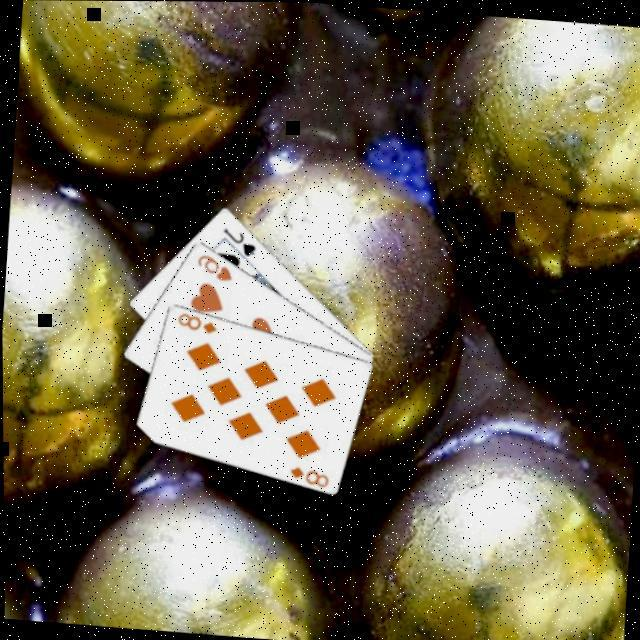6H: (192, 248, 236, 282)
8D: (174, 306, 222, 334), (285, 460, 332, 487)
JS: (219, 222, 260, 257)
